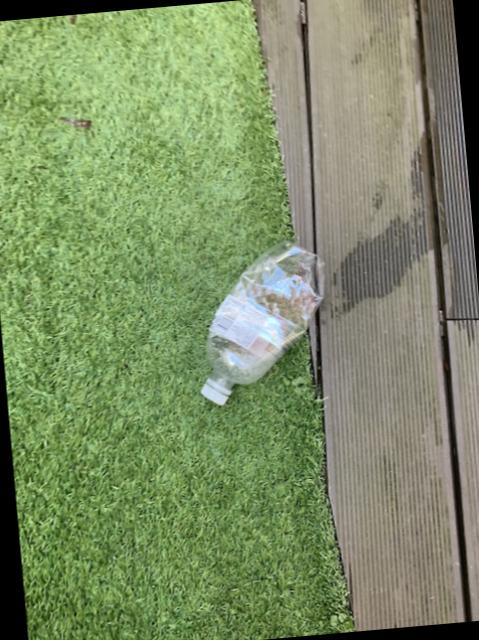plastic: (199, 240, 318, 402)
